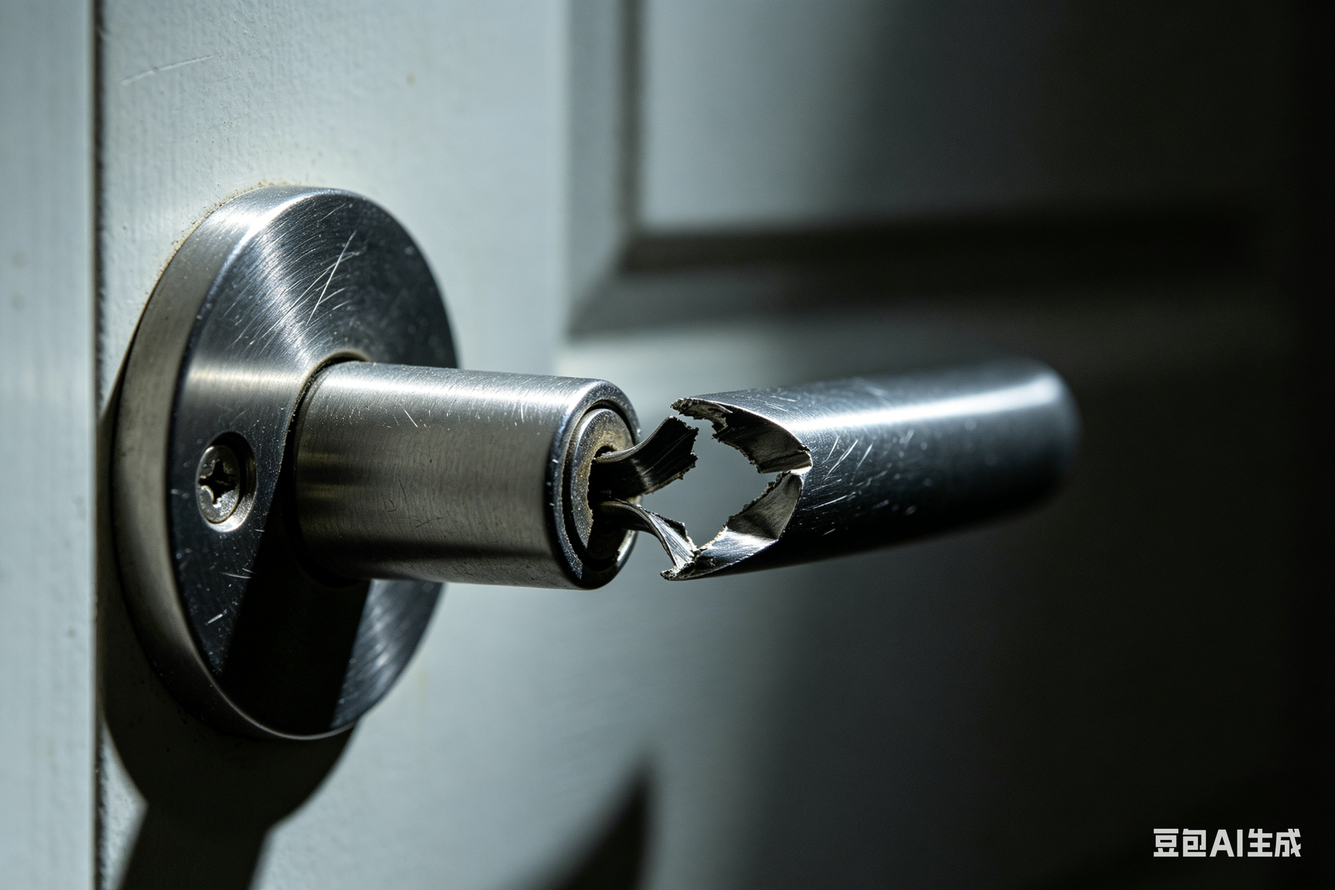BadLock: (542, 379, 812, 584)
